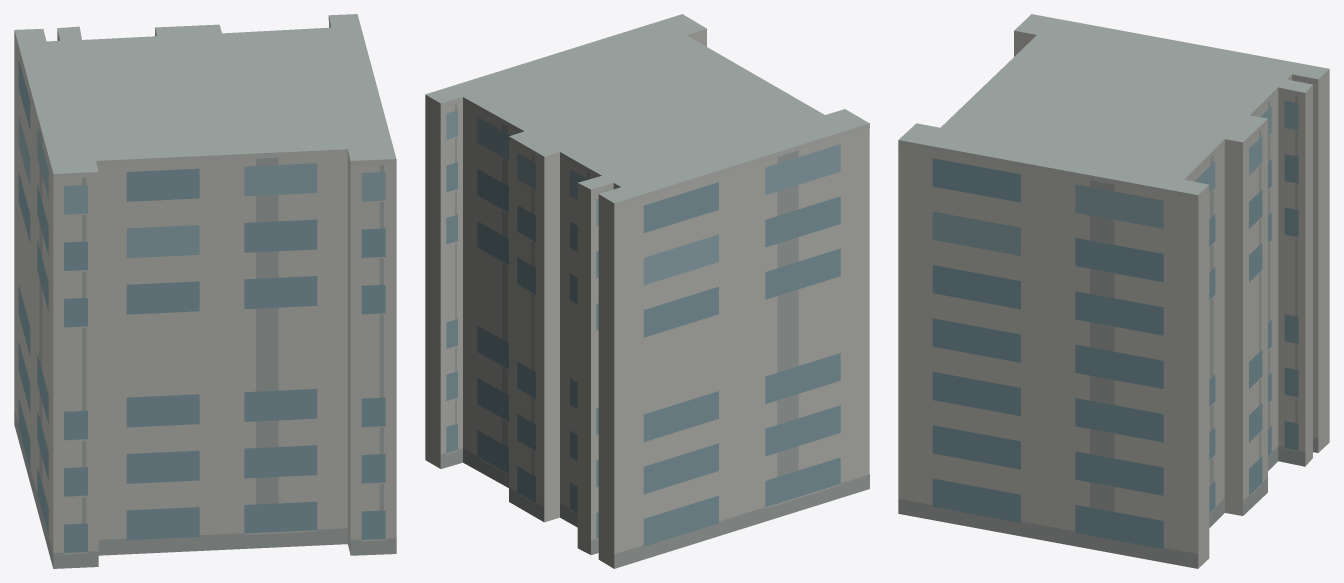
The model's file is survey-upis-32532567.glb.
3 renders of one model, left to right at view 1: azimuth 30°, elevation 25°; view 2: azimuth 150°, elevation 25°; view 3: azimuth 270°, elevation 25°, orthographic. The views are drawn at different scales.
Parts seen in each view (by area): view 1: survey-upis-32532567.tmp; view 2: survey-upis-32532567.tmp; view 3: survey-upis-32532567.tmp.
Part boxes in pixels (left/top/right/bottom): survey-upis-32532567.tmp: left=14, top=14, right=396, bottom=568; survey-upis-32532567.tmp: left=425, top=14, right=869, bottom=568; survey-upis-32532567.tmp: left=898, top=14, right=1329, bottom=568.
Bounding box in the file's own units: 19.13 × 18.4 × 19.26.
